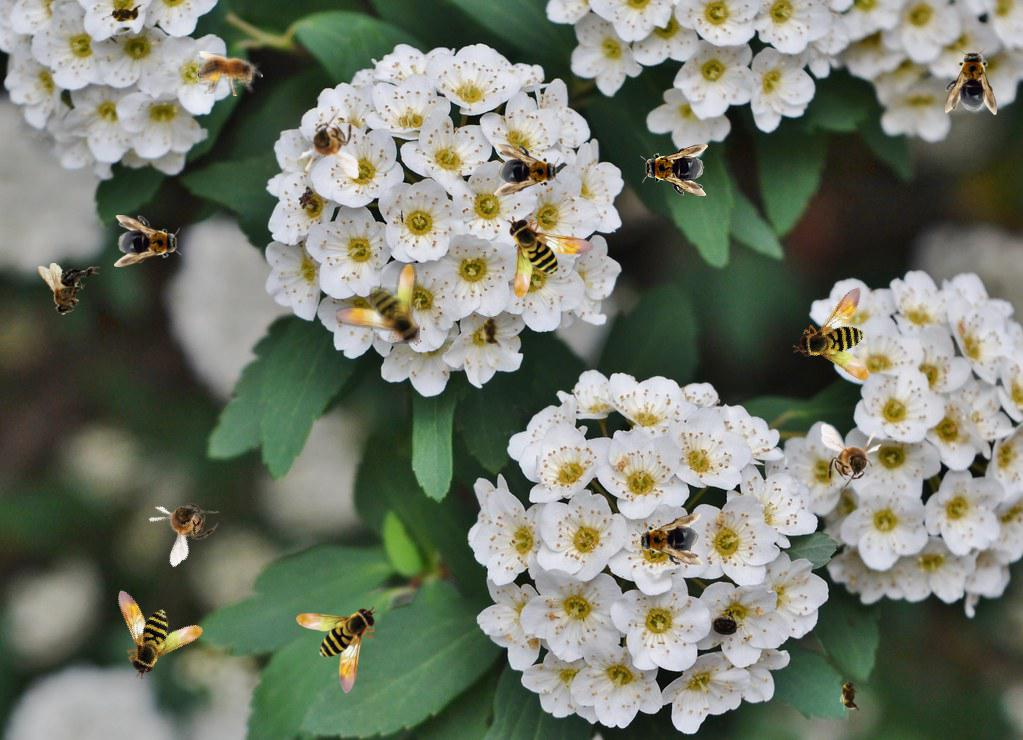Bee: (93, 564, 209, 682), (790, 272, 904, 390), (138, 477, 231, 569), (507, 216, 595, 298), (334, 264, 422, 346), (296, 606, 378, 694), (298, 109, 359, 179), (821, 424, 882, 494), (633, 512, 705, 570), (114, 215, 182, 267), (945, 47, 997, 115), (640, 144, 708, 196), (494, 144, 562, 196), (38, 263, 100, 316), (197, 51, 263, 96), (839, 675, 861, 715), (480, 311, 502, 351), (105, 3, 145, 25)
